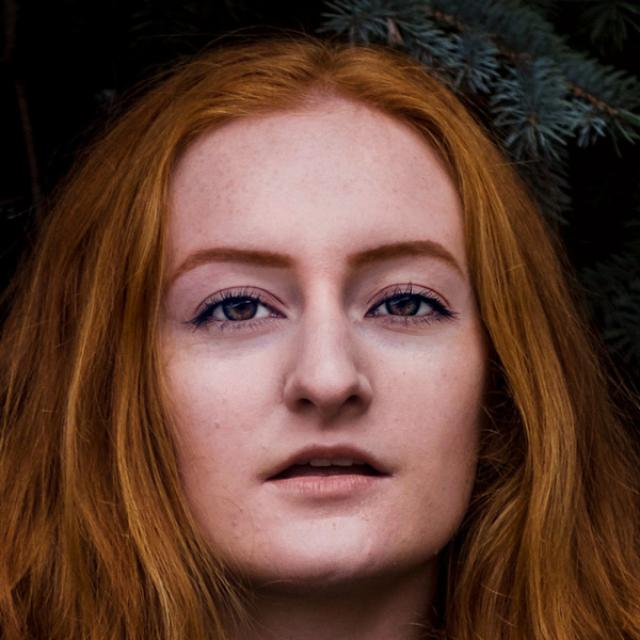face: (133, 96, 502, 607)
